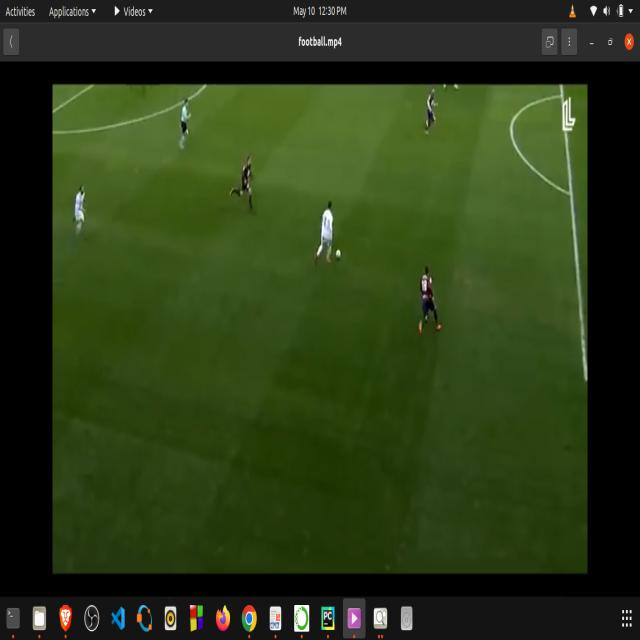Ball: (334, 248, 342, 262)
football-players: (414, 262, 451, 344), (228, 144, 264, 218), (313, 190, 336, 268), (72, 181, 91, 241), (177, 100, 195, 158), (423, 87, 441, 145)
